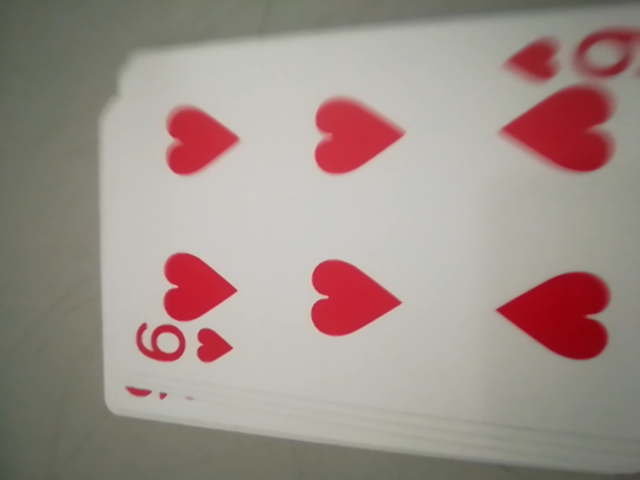hx 6: (114, 318, 233, 397)
